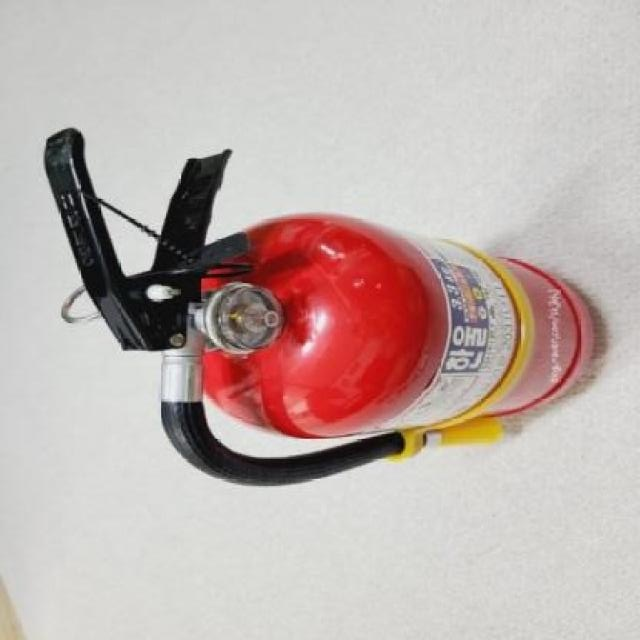fire extinguisher: (42, 128, 595, 486)
